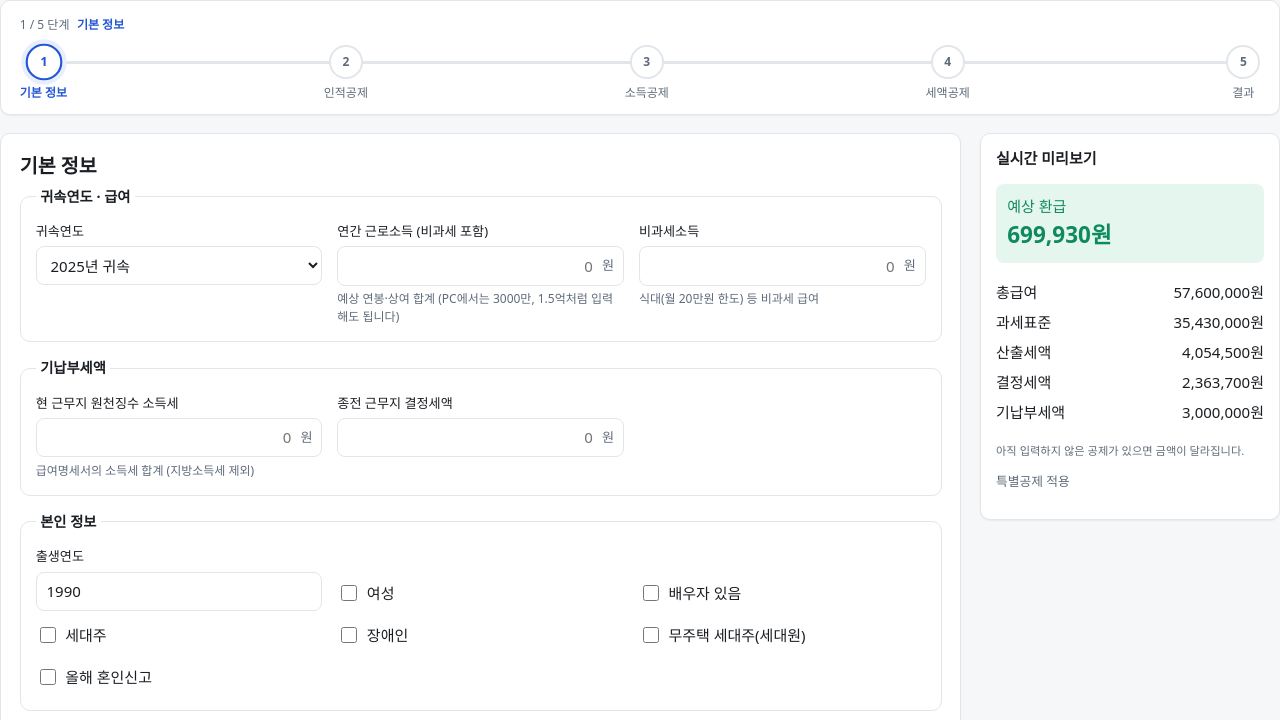
SimulationWizard › 저장은 결과 단계에서 하고, 저장 후에도 같은 단계를 유지한다
Type "5000만" into the field labelled "연간 근로소득 (비과세 포함)" at (481, 266), box [337,246,624,286]
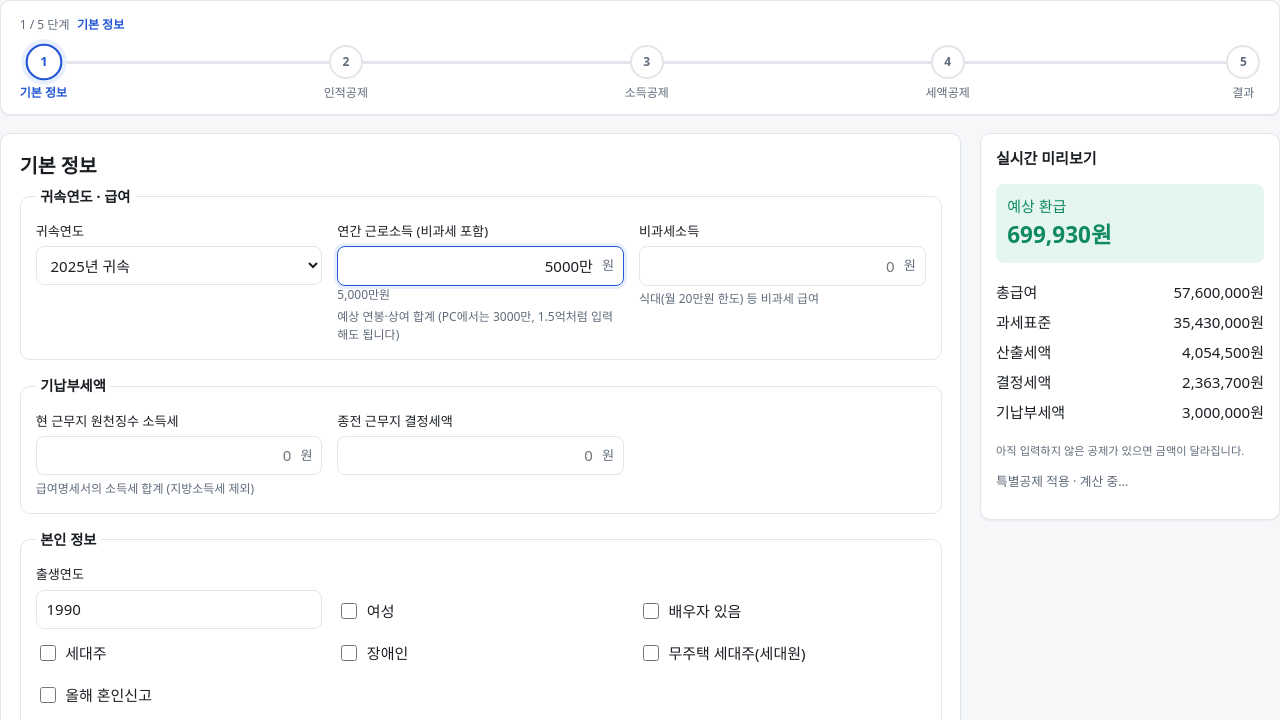
Expected: the field labelled "시뮬레이션 이름" is not shown
Click the button with aria-label "5단계 결과" at (1243, 74), box [1226,45,1260,102]
(page scrolled)
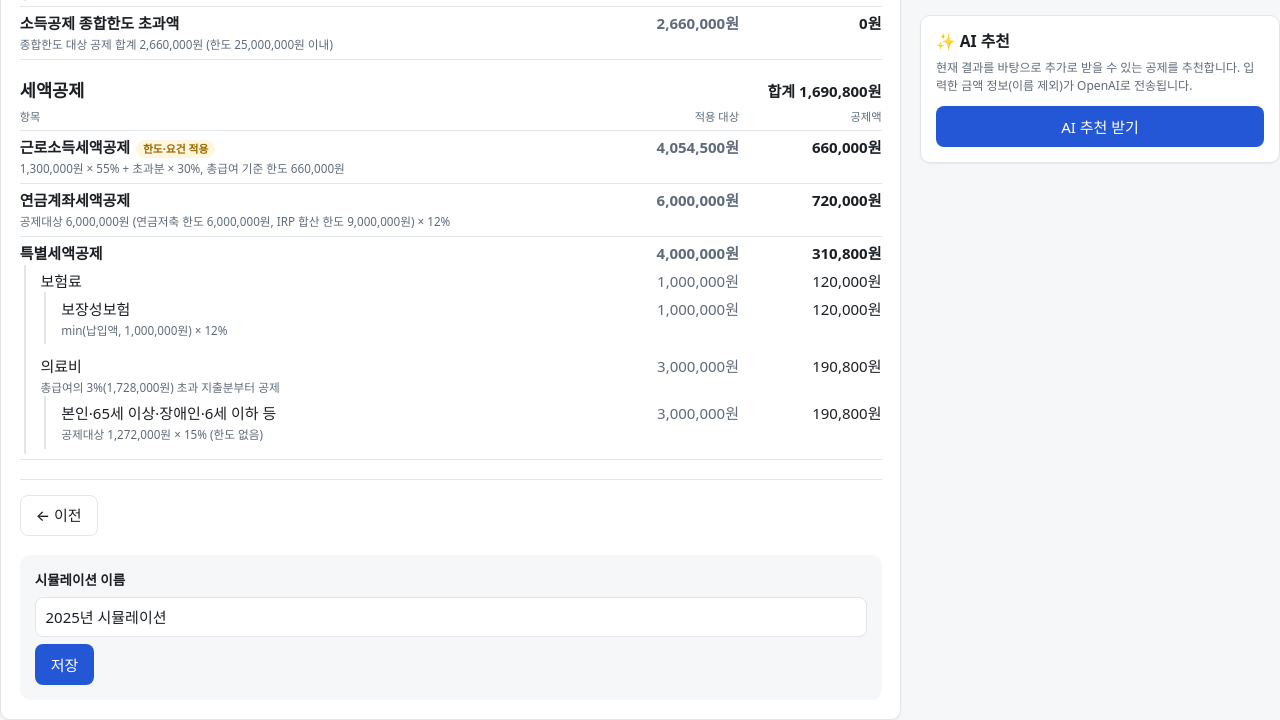
Replace the text in the field labelled "시뮬레이션 이름" with "내 2025 연말정산" at (451, 617), box [35,597,867,637]
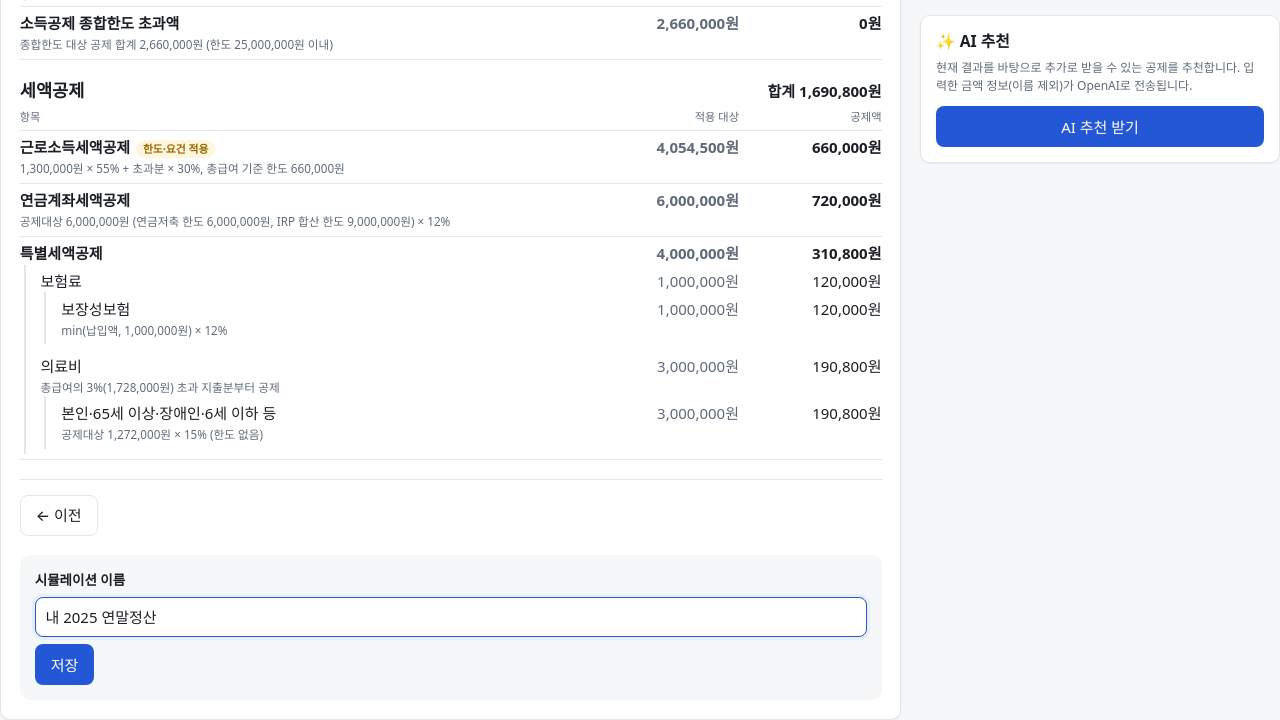
Click the button "저장" at (65, 665), box [35,644,94,685]
(page scrolled)
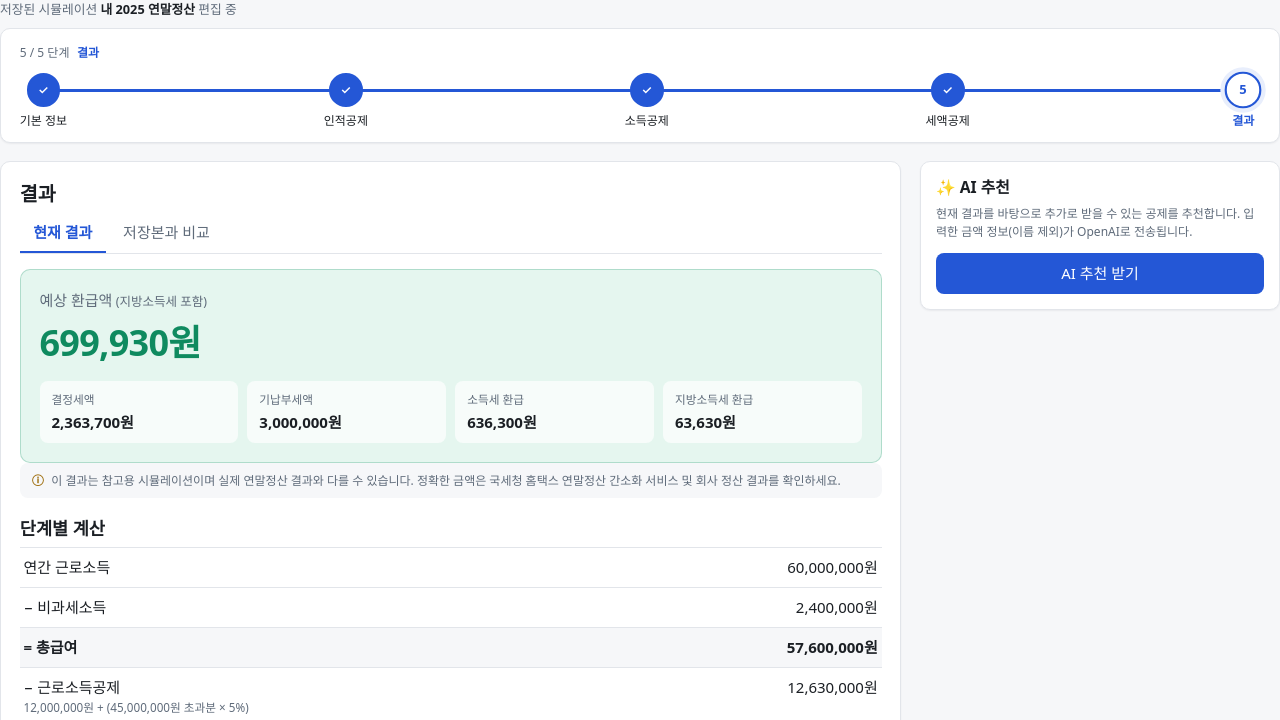
Expected: the heading "결과" is shown, [20,180,56,207]
Expected: the text "내 2025 연말정산" is shown, [100,0,195,18]
Expected: the text with test id "editing-name" reads "내 2025 연말정산", [100,0,195,18]
